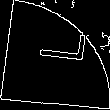L_W: (26, 36, 84, 74)
